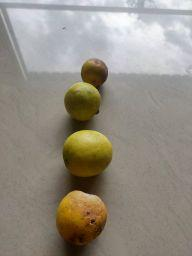lemon: (54, 189, 109, 247), (61, 129, 115, 178), (63, 82, 102, 123), (81, 57, 110, 88)
